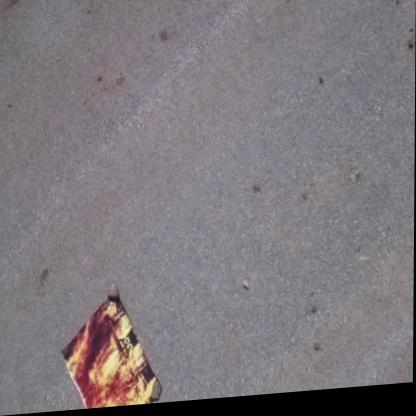fire-poster: (60, 281, 164, 411)
